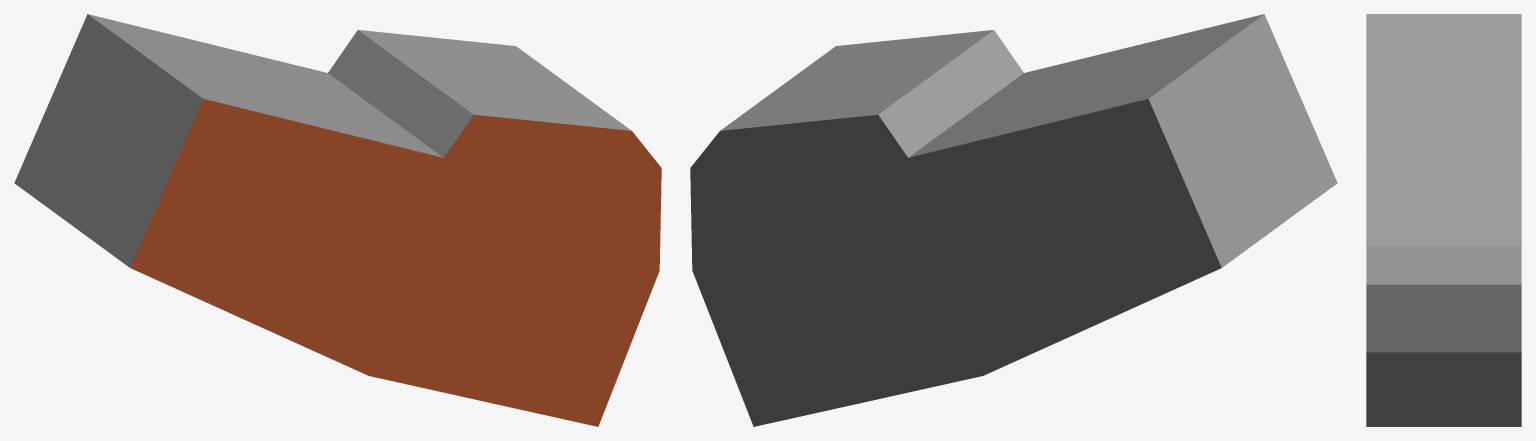
File: construction_1326_assumed_A_Casa_h6m.obj
3 renders of one model, left to right at view 1: azimuth 30°, elevation 25°; view 2: azimuth 150°, elevation 25°; view 3: azimuth 270°, elevation 25°, orthographic. The views are drawn at different scales.
Parts seen in each view (by area): view 1: construction_1326_assumed_A_Casa; view 2: construction_1326_assumed_A_Casa; view 3: construction_1326_assumed_A_Casa.
Part boxes in pixels (bbox=[...]): construction_1326_assumed_A_Casa: bbox=[14, 14, 661, 426]; construction_1326_assumed_A_Casa: bbox=[690, 14, 1337, 426]; construction_1326_assumed_A_Casa: bbox=[1366, 14, 1521, 426].
Bounding box in the file's own units: 15.89 × 12.12 × 6.
